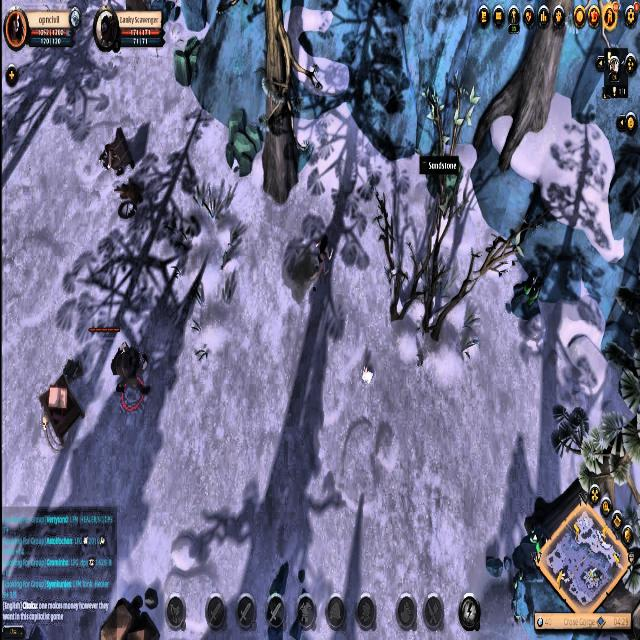mob: (110, 336, 154, 417), (98, 121, 136, 182)
sandstone: (225, 107, 263, 178), (173, 33, 207, 91)
tin_ore: (509, 266, 547, 324)
